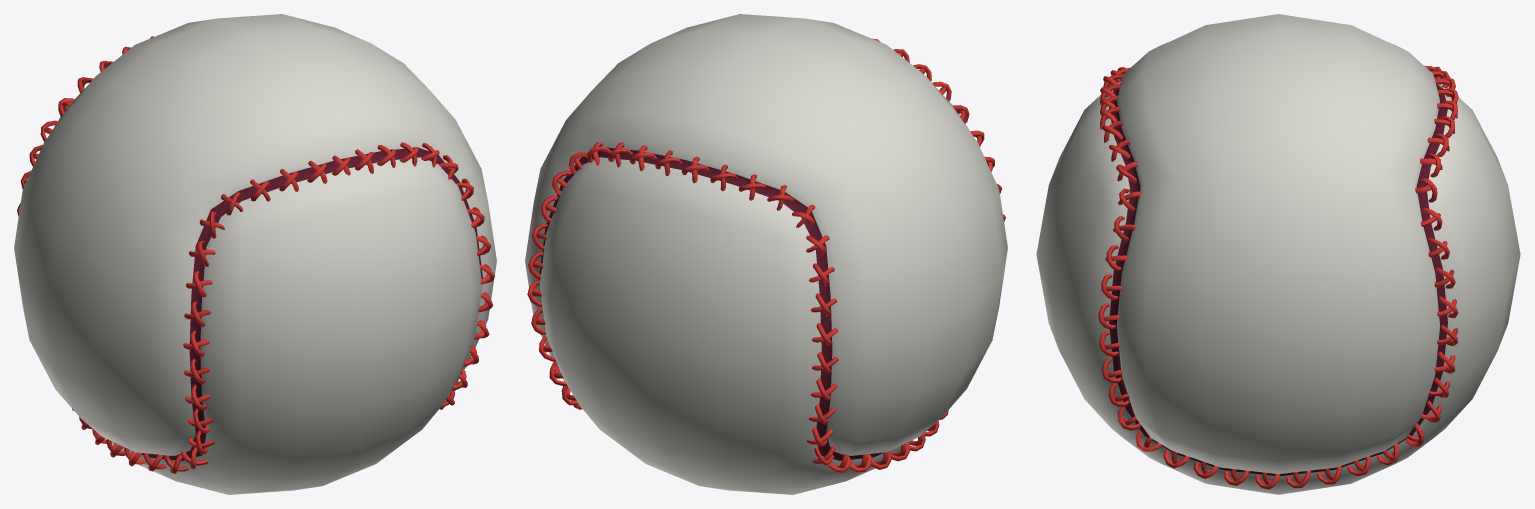
File: Baseball.fbx
3 renders of one model, left to right at view 1: azimuth 30°, elevation 25°; view 2: azimuth 150°, elevation 25°; view 3: azimuth 270°, elevation 25°, orthographic.
Parts seen in each view (by area): view 1: Baseball; view 2: Baseball; view 3: Baseball.
Part boxes in pixels (bbox=[...]): Baseball: bbox=[14, 14, 496, 494]; Baseball: bbox=[525, 14, 1007, 494]; Baseball: bbox=[1036, 14, 1520, 494].
Bounding box in the file's own units: 0.4867 × 0.4867 × 0.4867.
